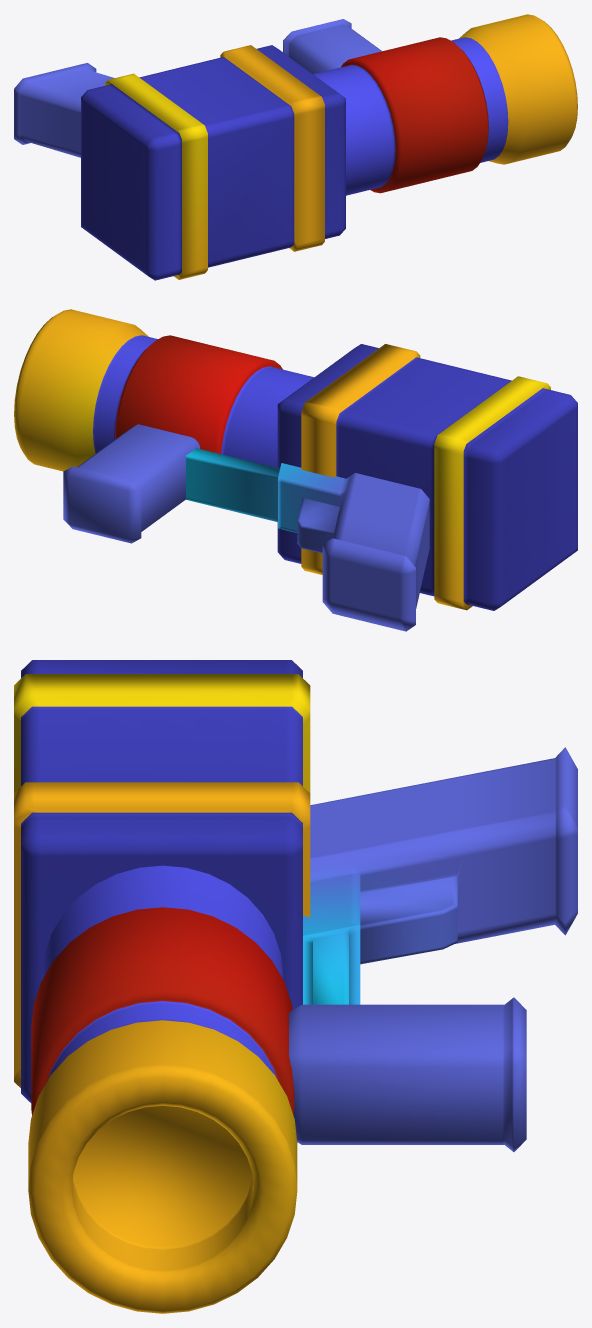
Rendered from WaterBalloonLauncher.fbx.
The picture shows the model from 3 angles, top to bottom: view 1: azimuth 30°, elevation 25°; view 2: azimuth 150°, elevation 25°; view 3: azimuth 270°, elevation 25°; orthographic projection. The views are drawn at different scales.
Visible parts, largest first — view 1: Water Balloon Launcher; view 2: Water Balloon Launcher; view 3: Water Balloon Launcher.
Boxes of the visible parts, box(x1,y1,x2,y2) form: Water Balloon Launcher: box(14, 14, 577, 280); Water Balloon Launcher: box(14, 309, 577, 631); Water Balloon Launcher: box(14, 660, 577, 1313).
Bounding box in the file's own units: 0.5797 × 0.9806 × 0.3229.
1 material, 1 textured.
